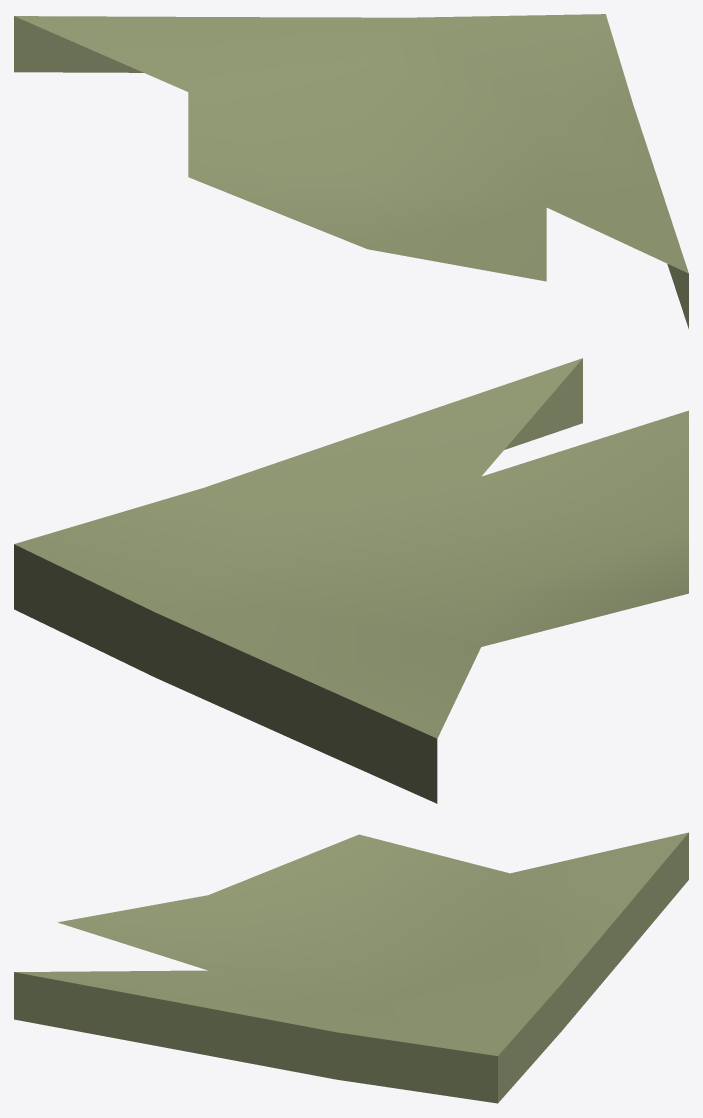
3 views of the same model, one above another, from view 1: azimuth 30°, elevation 25°; view 2: azimuth 150°, elevation 25°; view 3: azimuth 270°, elevation 25° (orthographic). The views are drawn at different scales.
Parts seen in each view (by area): view 1: SW_ground_descent_lawn_3_5; view 2: SW_ground_descent_lawn_3_5; view 3: SW_ground_descent_lawn_3_5.
Part boxes in pixels (x1=…): SW_ground_descent_lawn_3_5: x1=14, y1=14, x2=688, y2=328; SW_ground_descent_lawn_3_5: x1=14, y1=358, x2=688, y2=803; SW_ground_descent_lawn_3_5: x1=14, y1=832, x2=688, y2=1103.
Bounding box in the file's own units: 5.58 × 0.9913 × 7.74.
